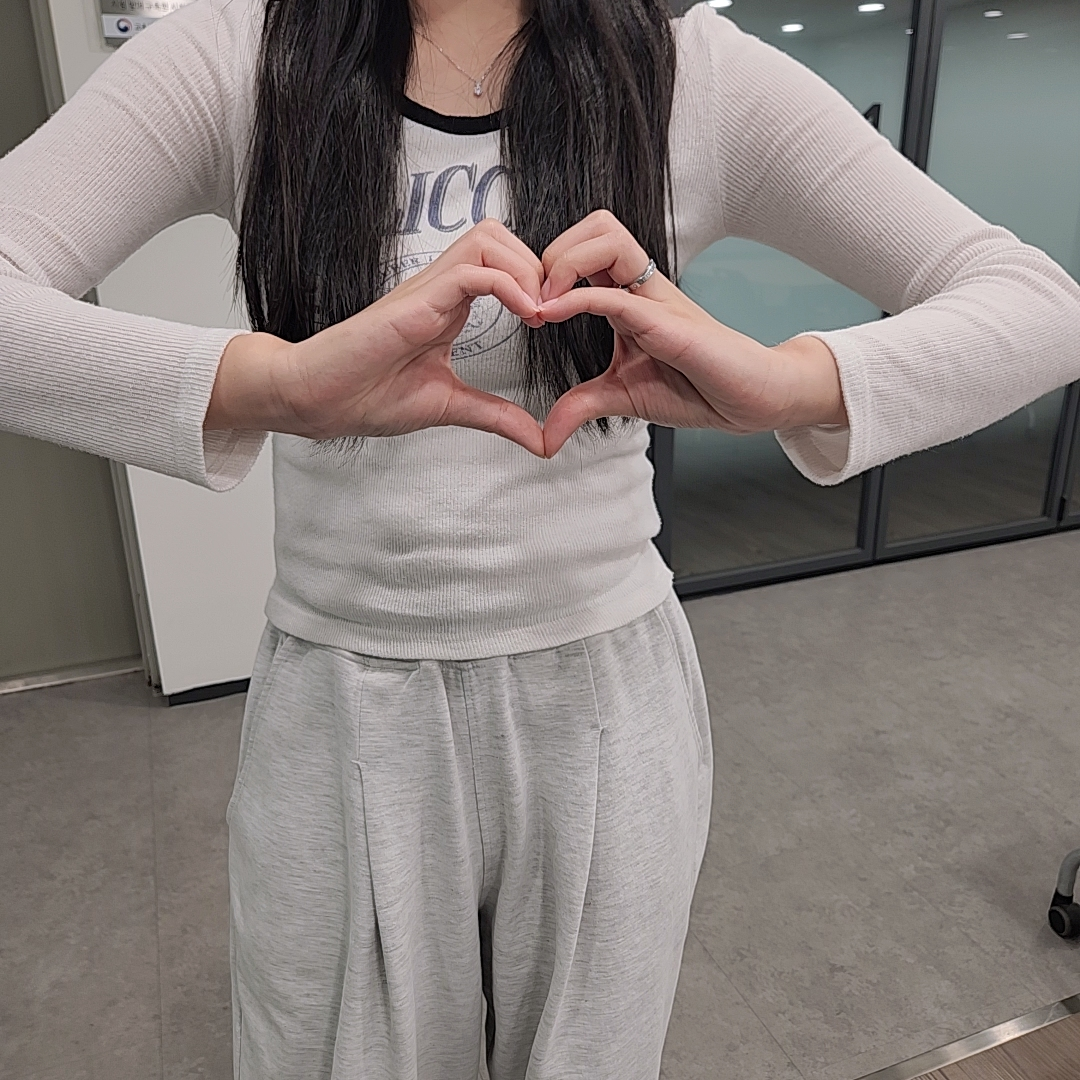heart: (325, 210, 759, 458)
